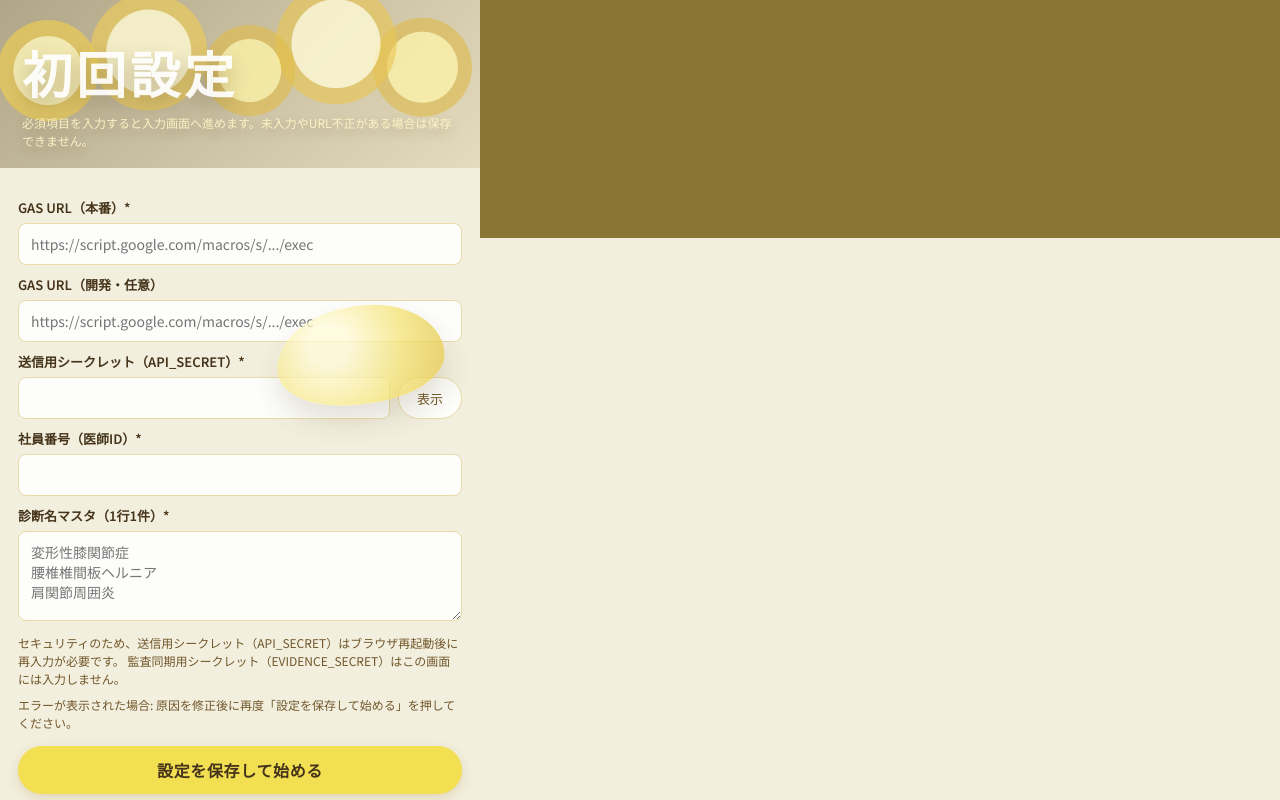
Test: SetupScreen › URL形式が不正な場合は保存せずエラー表示する
Type "http://example.com" into the field named "gasUrlProd" at (240, 244), box x1=18 y1=223 x2=462 y2=265
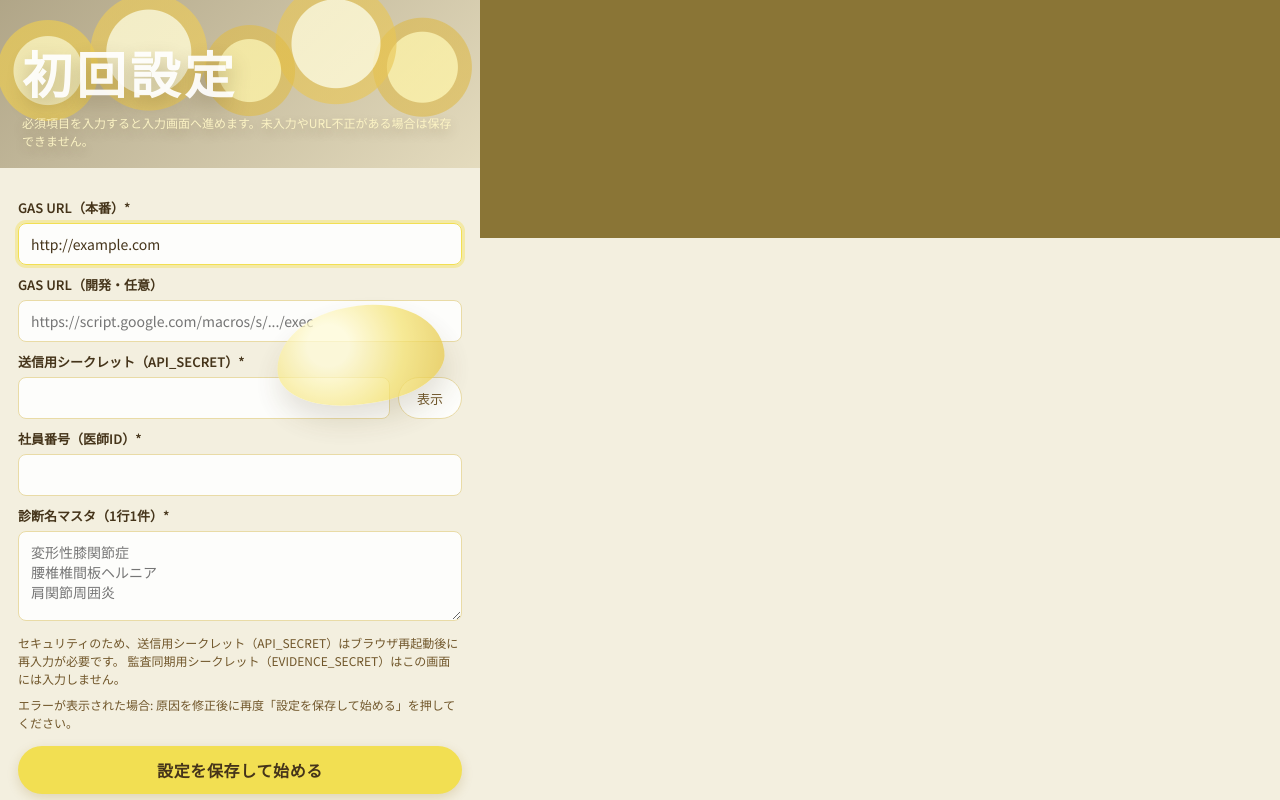
Type "12345" into the field named "doctorId" at (240, 475), box x1=18 y1=454 x2=462 y2=496
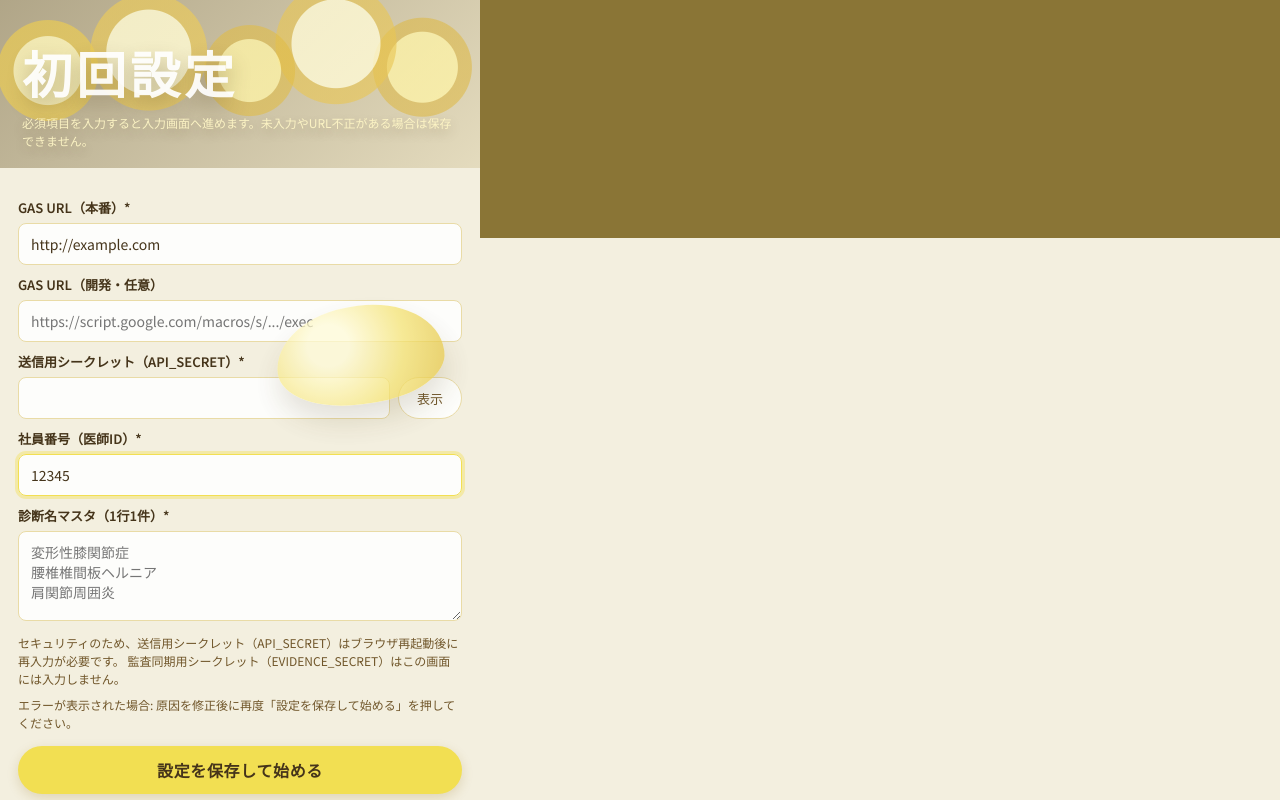
Type "secret" into the password field named "apiSecret" at (204, 398), box x1=18 y1=377 x2=390 y2=419
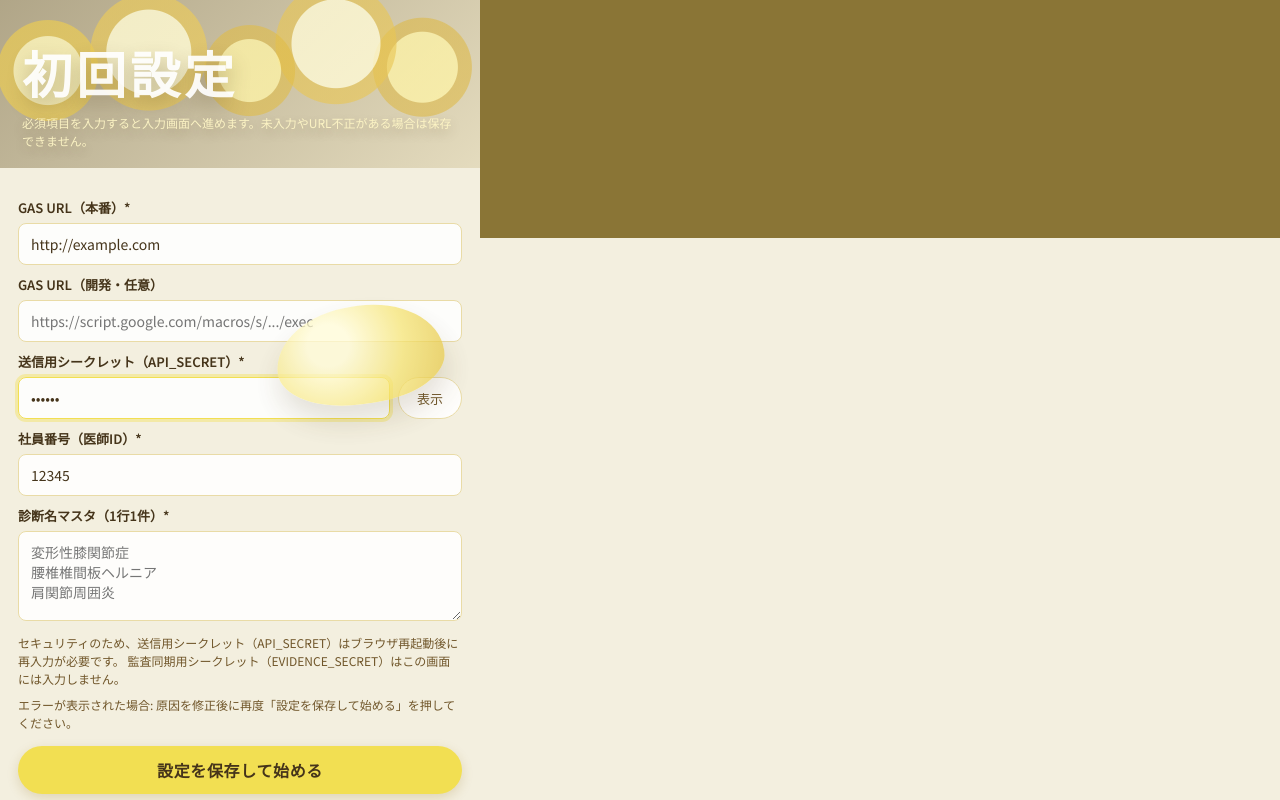
Type "腰痛" into the text box named "diagnosisMaster" at (240, 576), box x1=18 y1=531 x2=462 y2=621
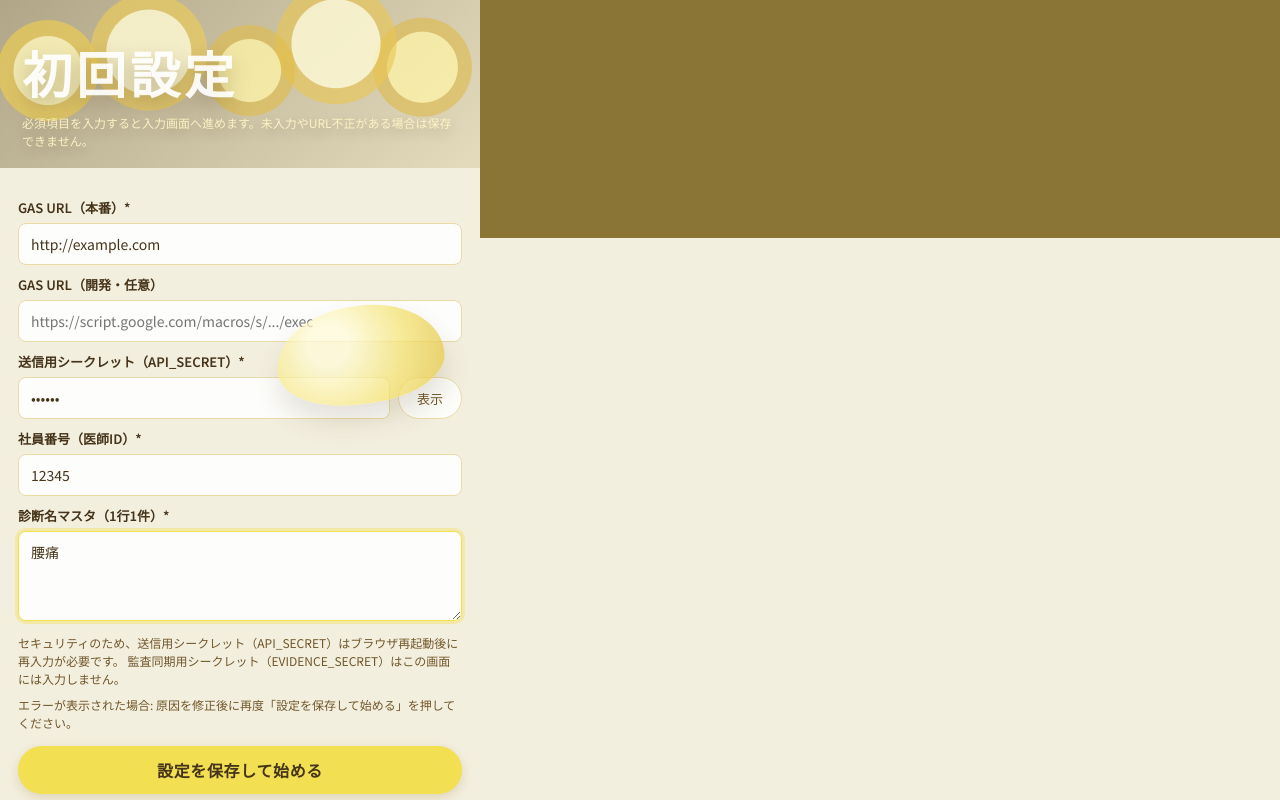
Click the button "設定を保存して始める" at (240, 770), box x1=18 y1=746 x2=462 y2=794
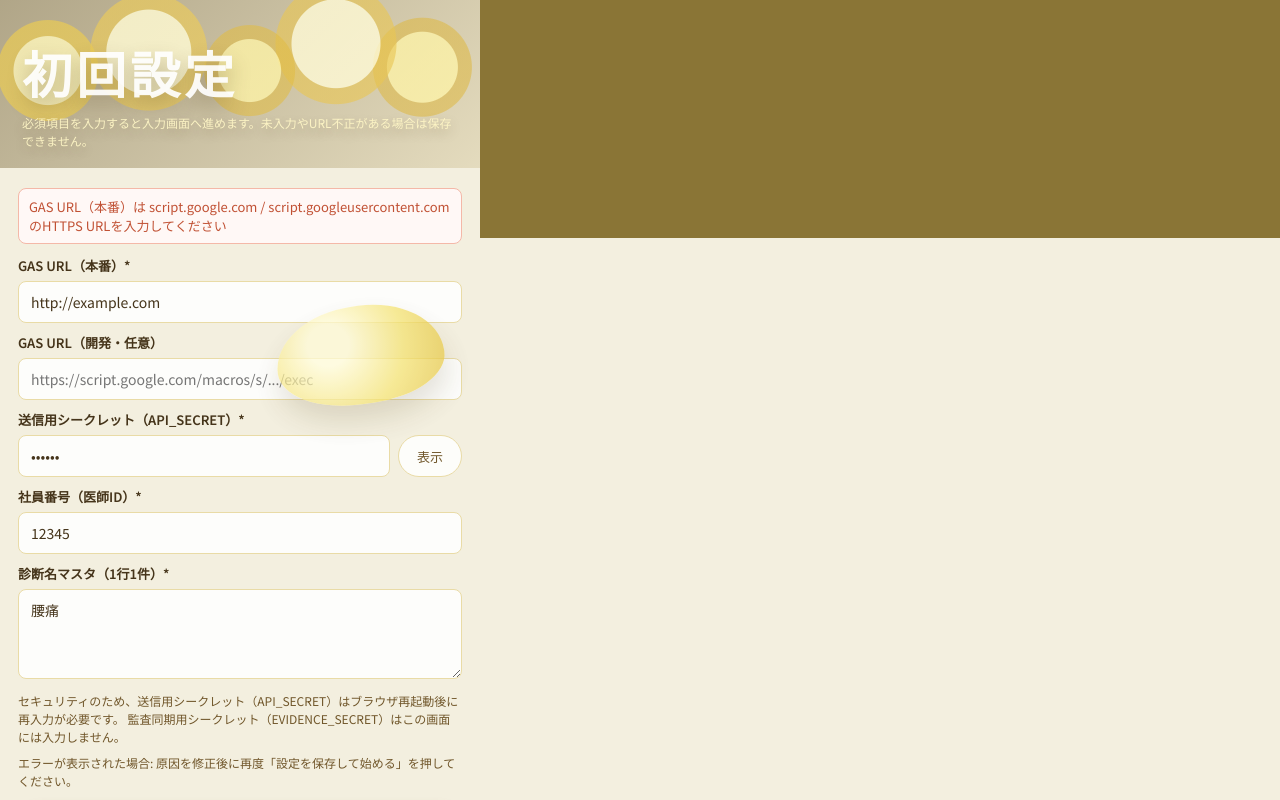
Expected: the text "script.google.com" is shown, x1=29 y1=197 x2=450 y2=235
